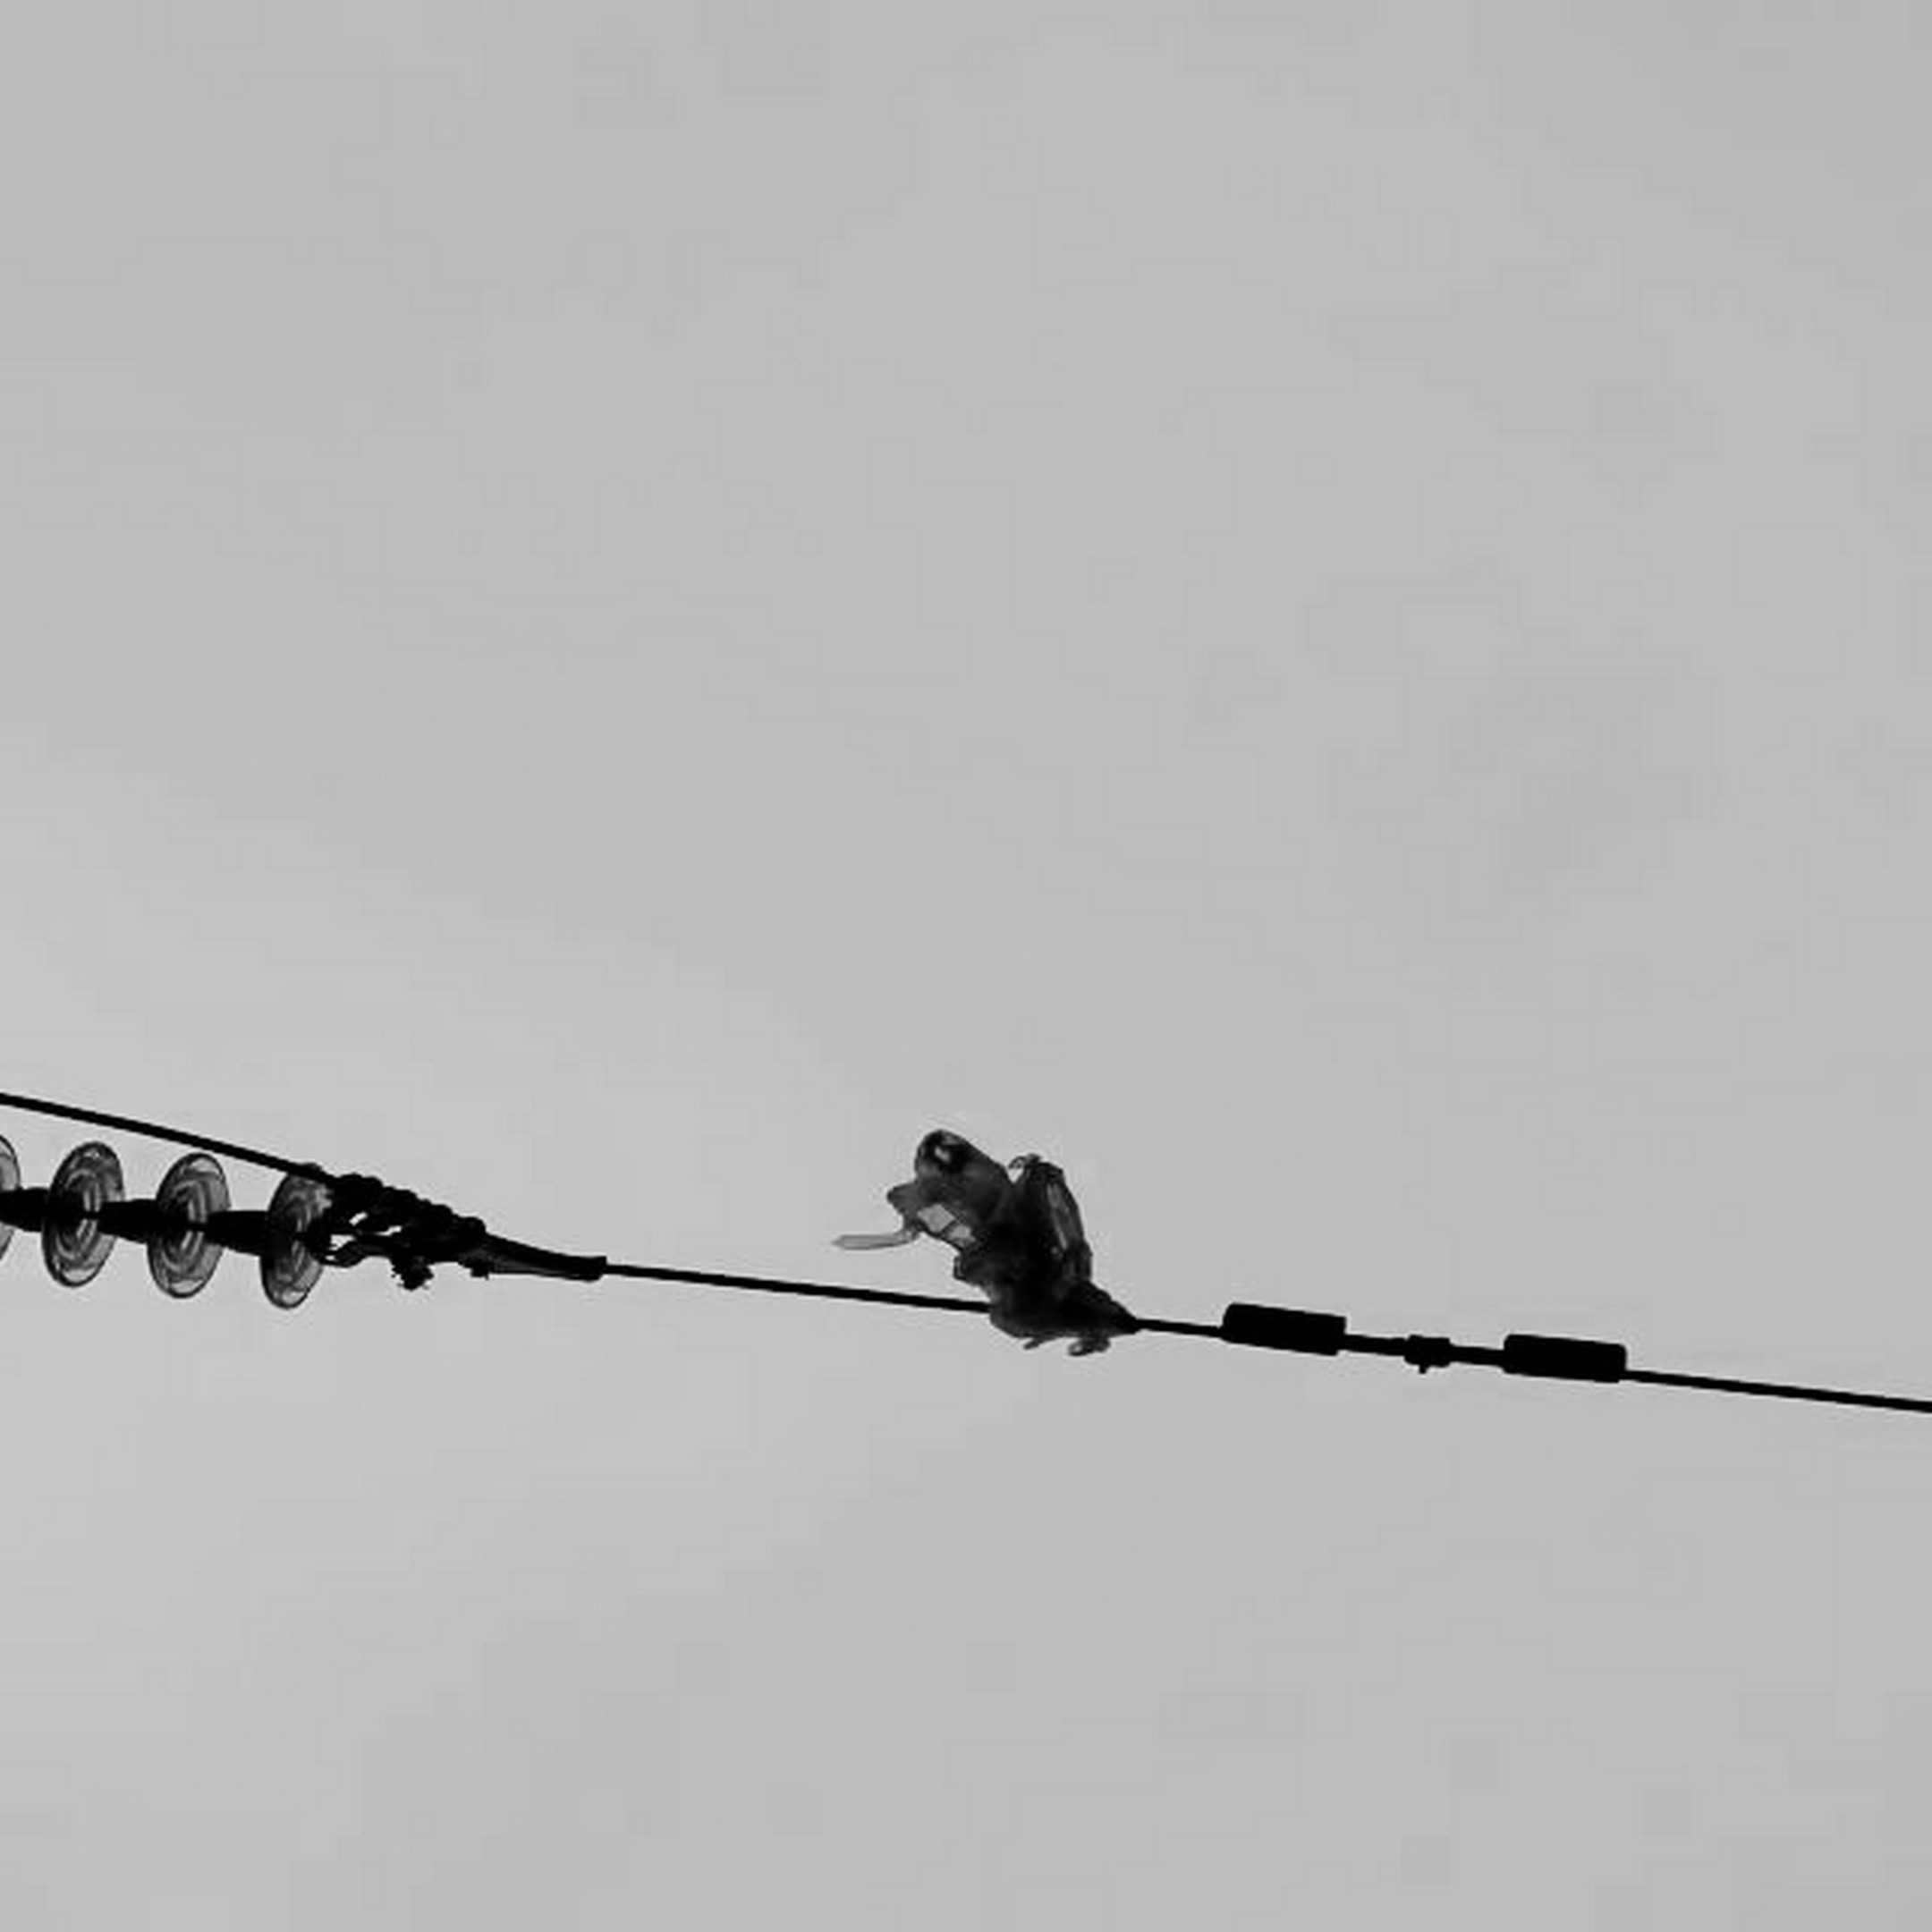wire foreign body: (851, 1095, 1178, 1394)
